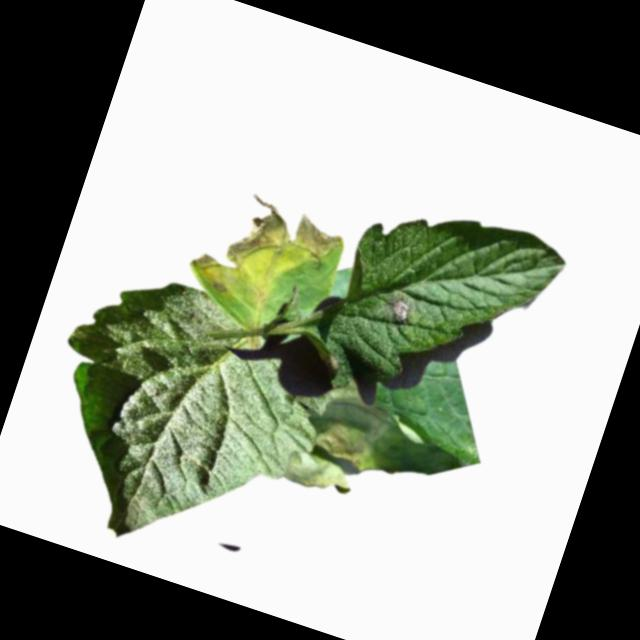Late_blight: (280, 378, 474, 534), (184, 183, 347, 326), (383, 293, 414, 328)
